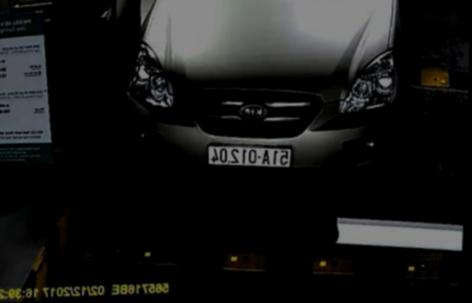License_Plate: (203, 143, 296, 169)
